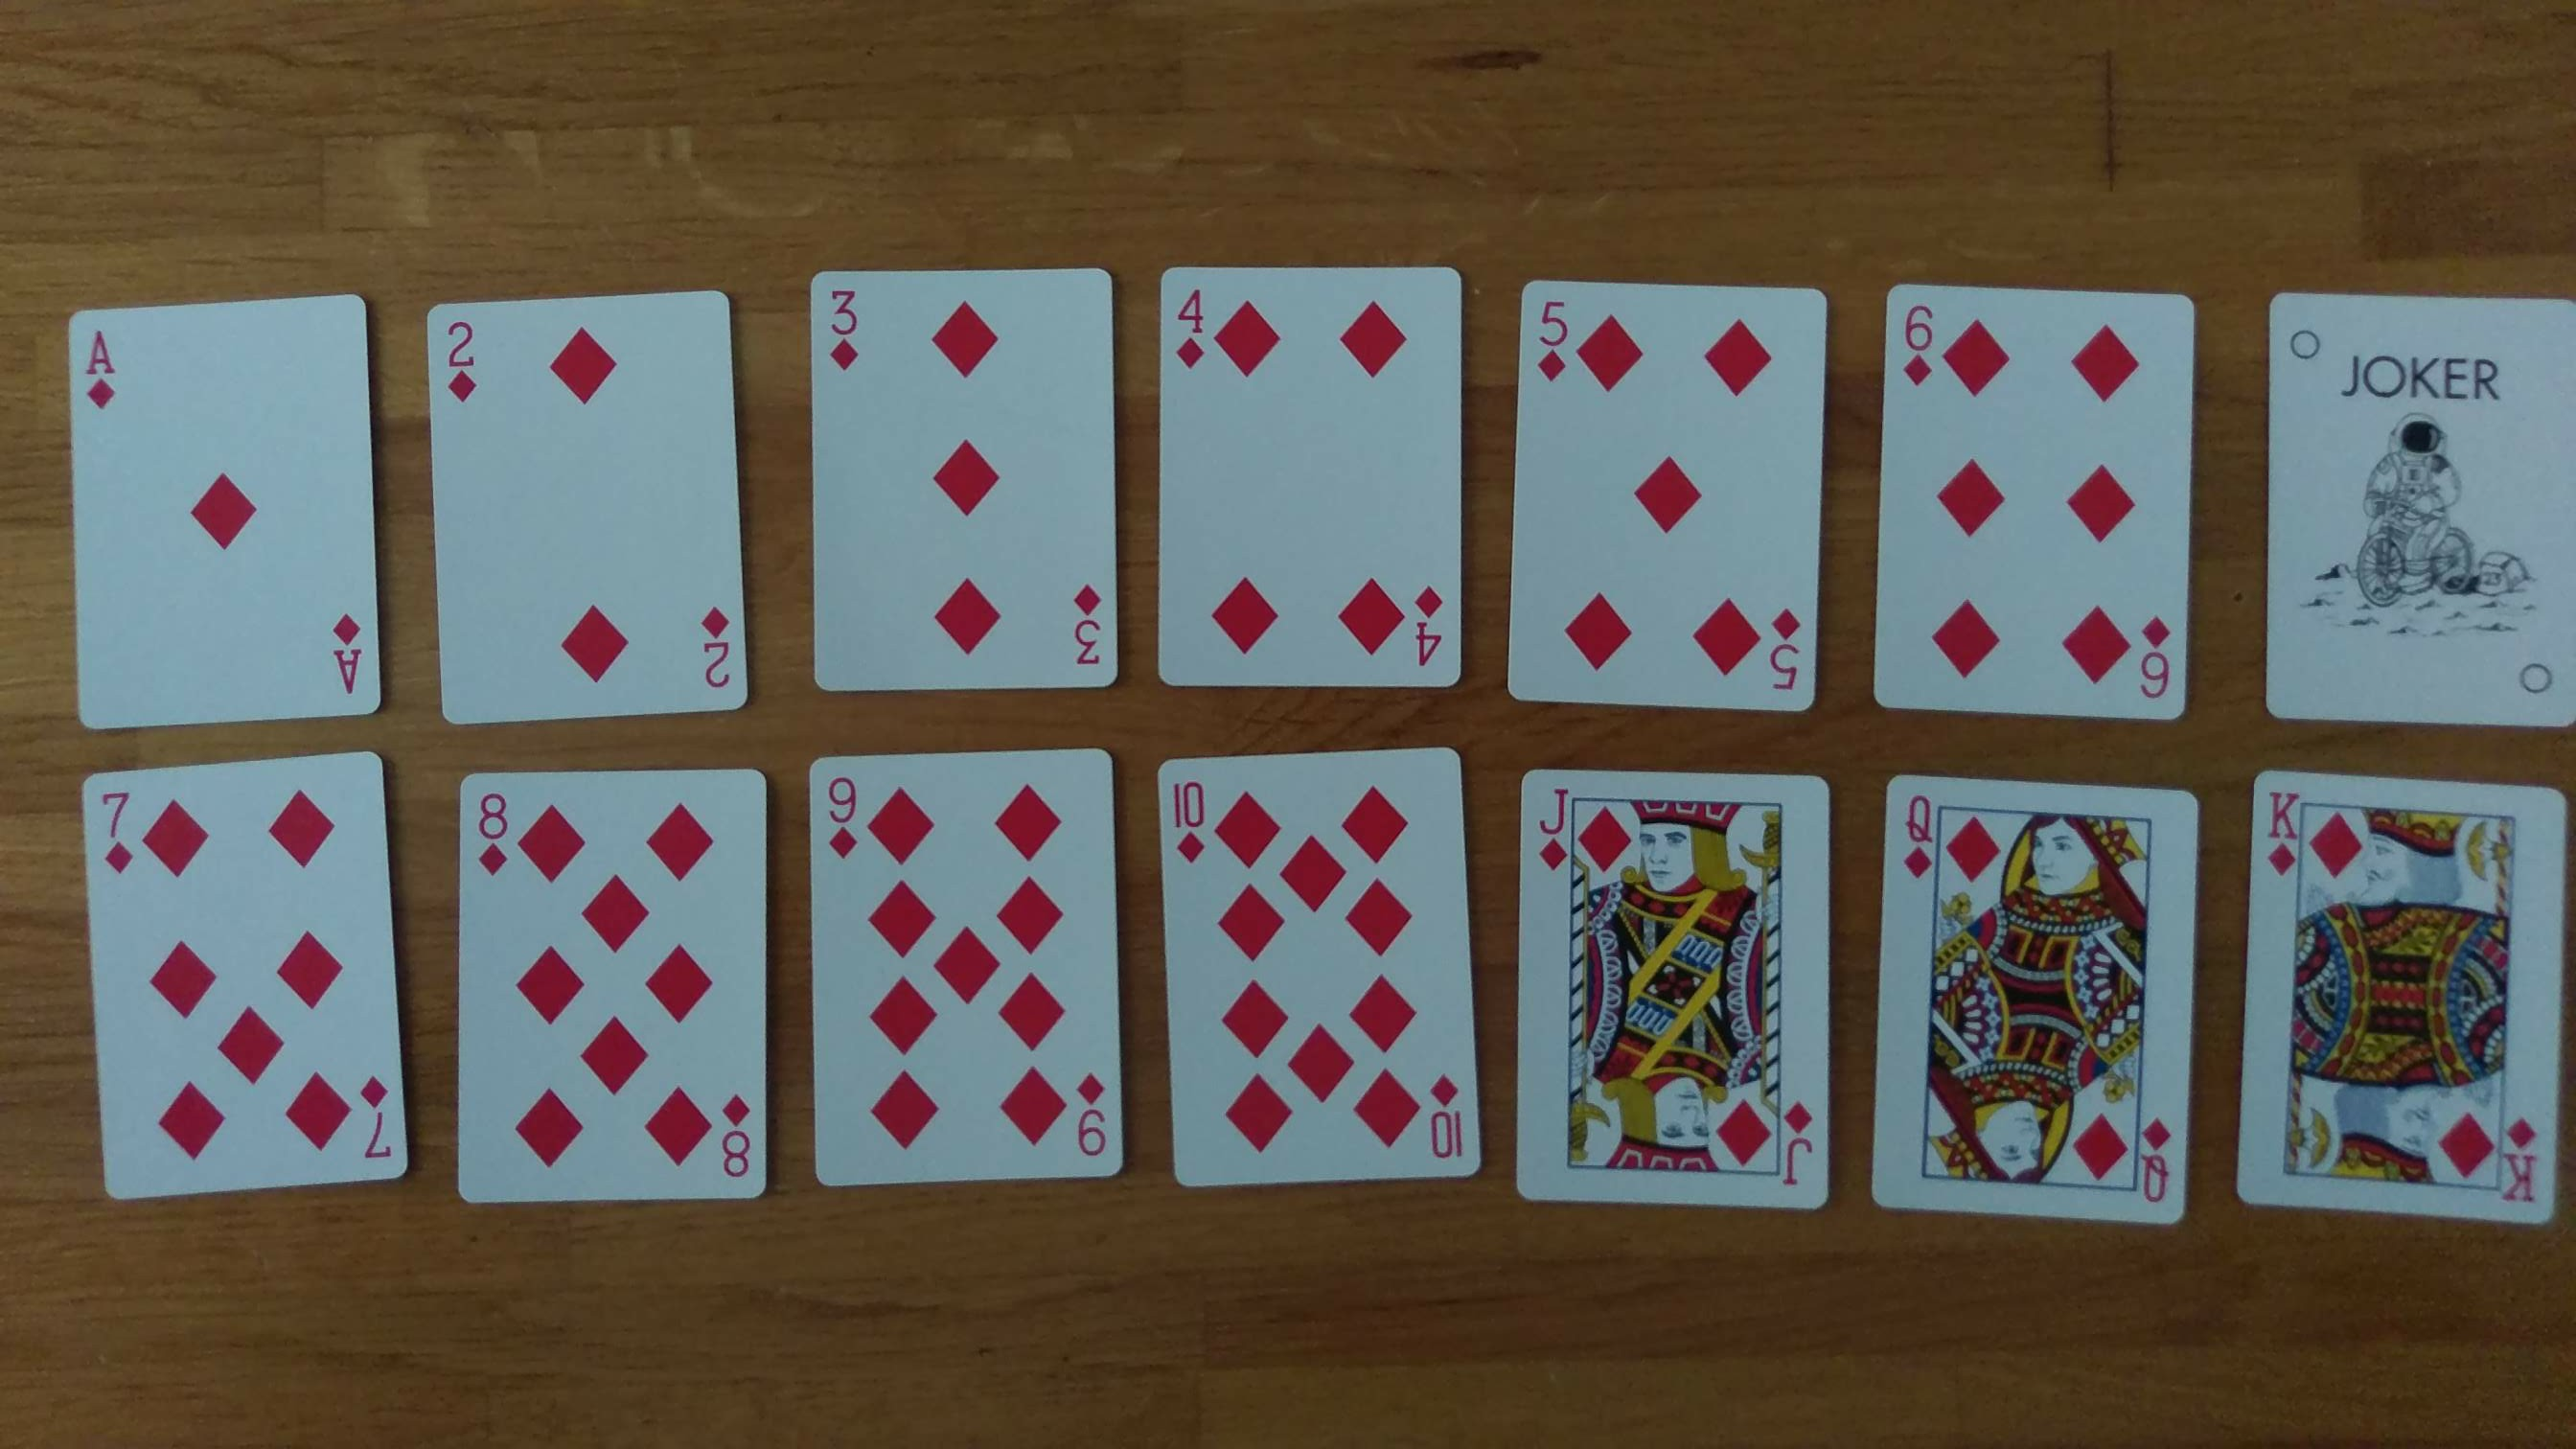10Q: (1424, 1056, 1476, 1169), (1166, 768, 1210, 869)
1Q: (318, 594, 373, 711), (76, 318, 127, 423)
2Q: (435, 313, 492, 416), (688, 594, 734, 697)
3Q: (1063, 566, 1111, 679), (821, 281, 867, 375)
4Q: (1403, 570, 1454, 676), (1168, 278, 1214, 386)
5Q: (1764, 593, 1808, 704), (1532, 288, 1578, 391)
6Q: (2128, 596, 2180, 713), (1893, 287, 1937, 398)
7Q: (87, 784, 147, 885), (352, 1069, 405, 1177)
8Q: (469, 782, 513, 883), (717, 1083, 757, 1191)
9Q: (1070, 1051, 1118, 1168), (821, 766, 865, 863)
JQ: (1782, 1093, 1822, 1200), (1530, 778, 1571, 879)
KQ: (2261, 777, 2305, 886), (2500, 1099, 2542, 1212)
QQ: (2135, 1108, 2178, 1214), (1897, 786, 1937, 883)
